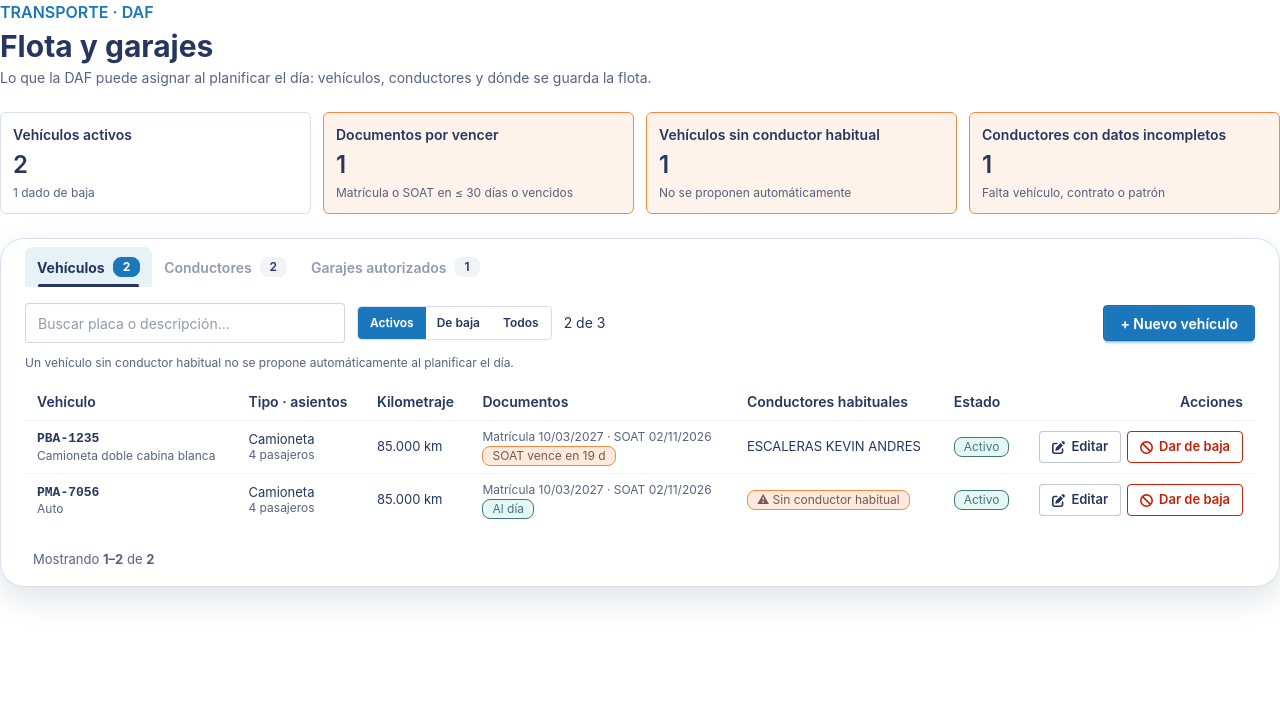
Scenario: cajones › una placa guardada sin guion se muestra normalizada y se guarda normalizada, sin exigir el formato
Expected: the text "PMA-7056" is shown, [37,484,99,500]
Click the button with aria-label "Editar PMA-7056" at (1080, 500), box [1039,484,1121,516]
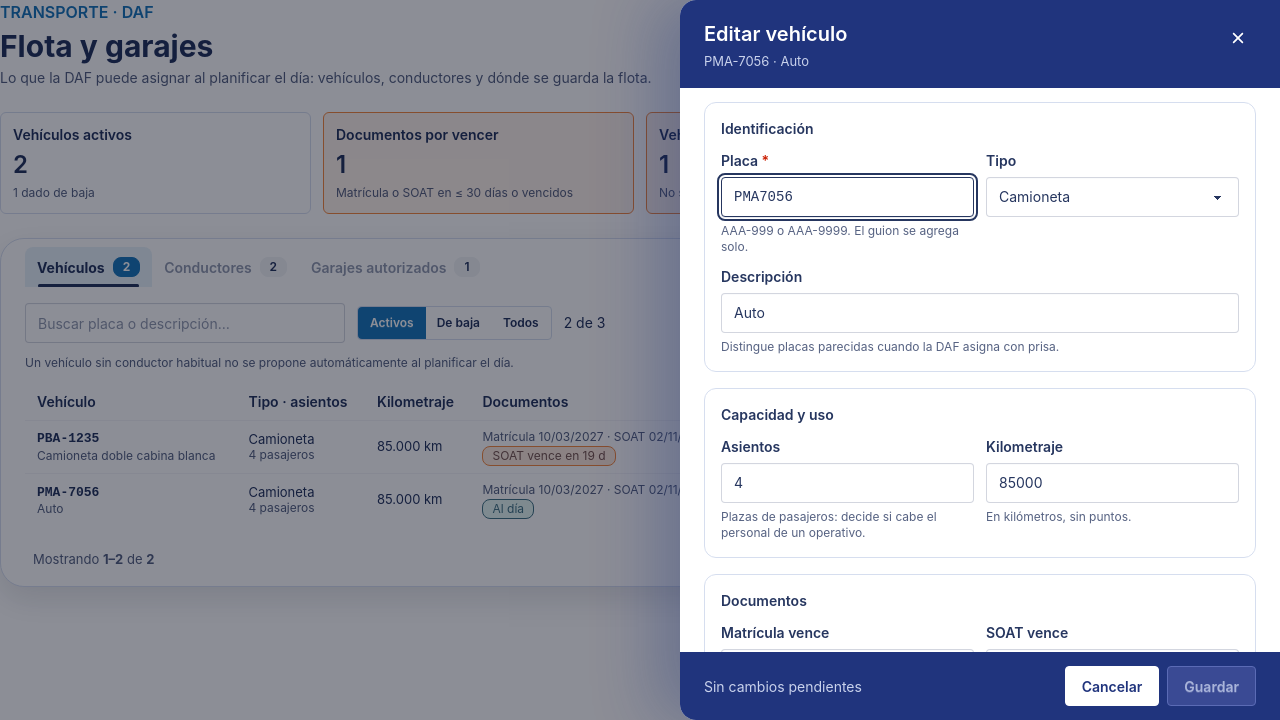
Type " gris" into the field labelled "Descripción" at (980, 312), box [721,292,1239,332]
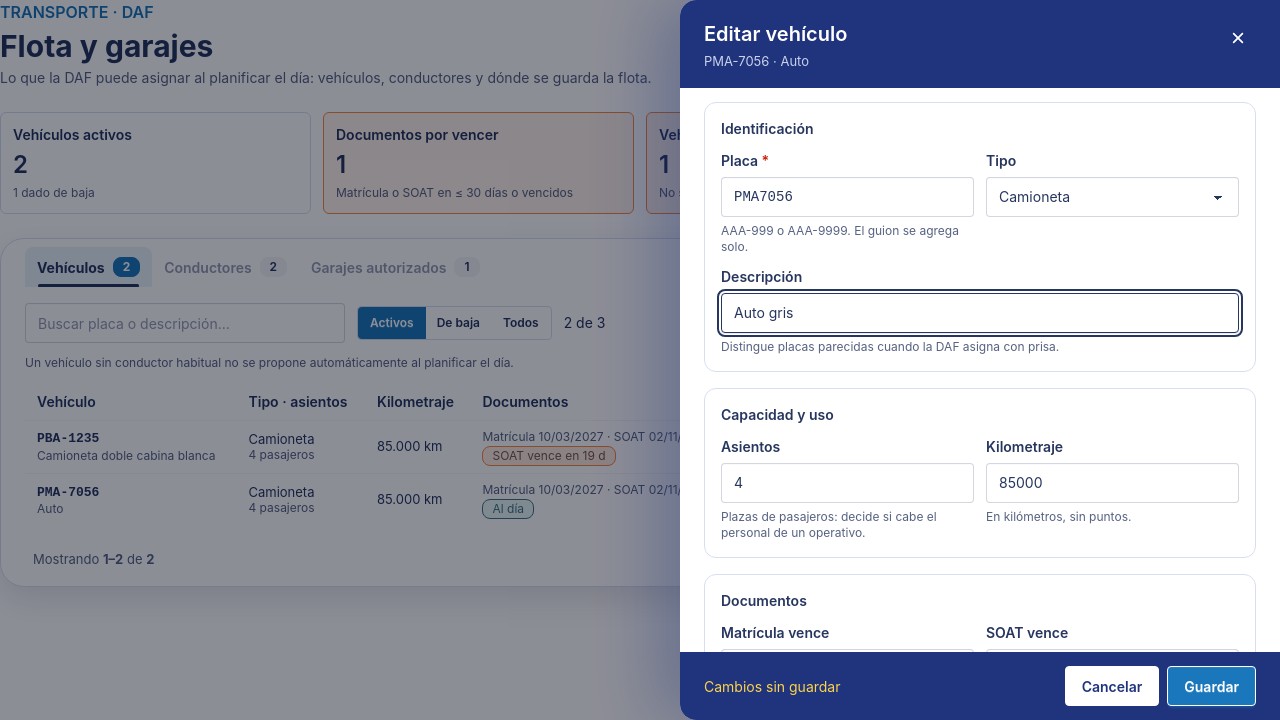
Click the button "Guardar" at (1212, 686), box [1167,666,1256,706]
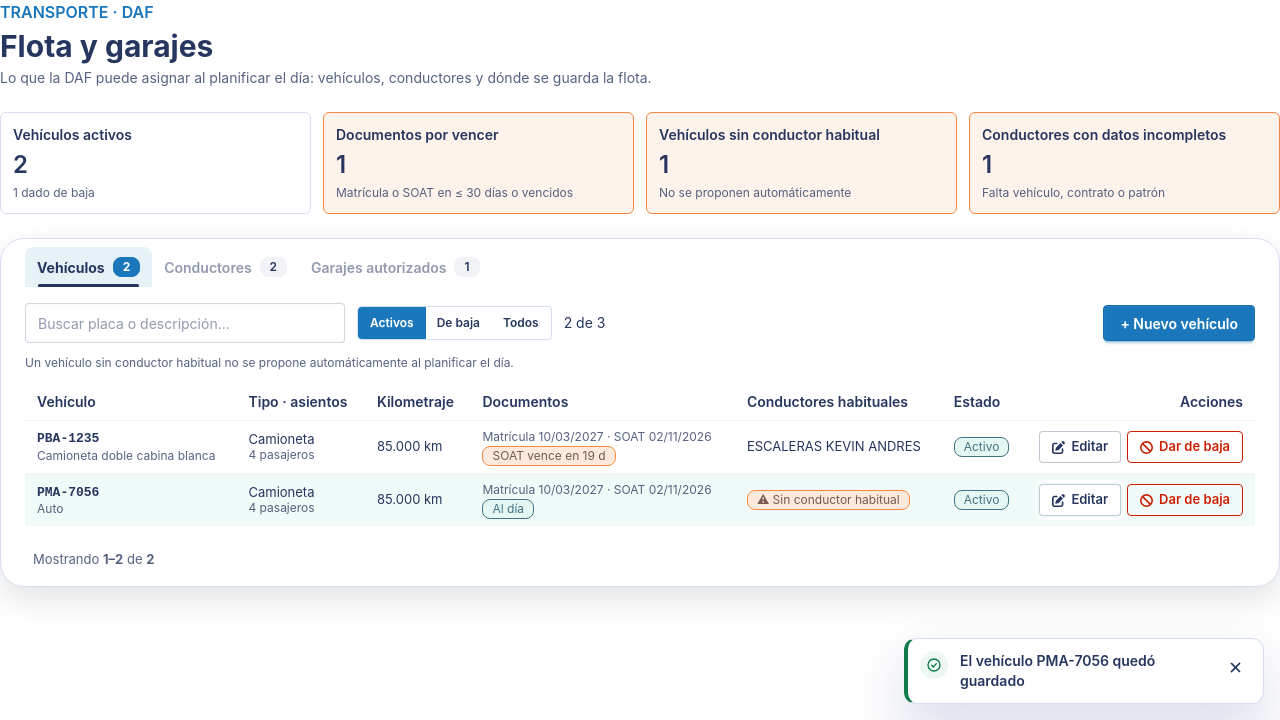
Expected: the text "El vehículo PMA-7056 quedó guardado" is shown, [960,652,1155,689]
